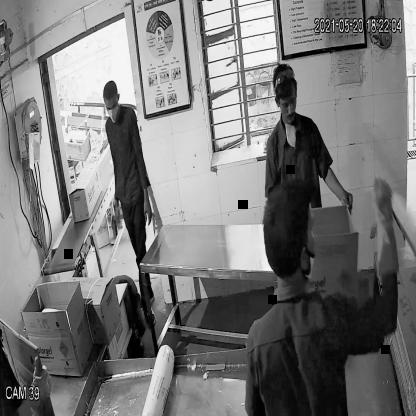no_goggles: (273, 90, 299, 113)
